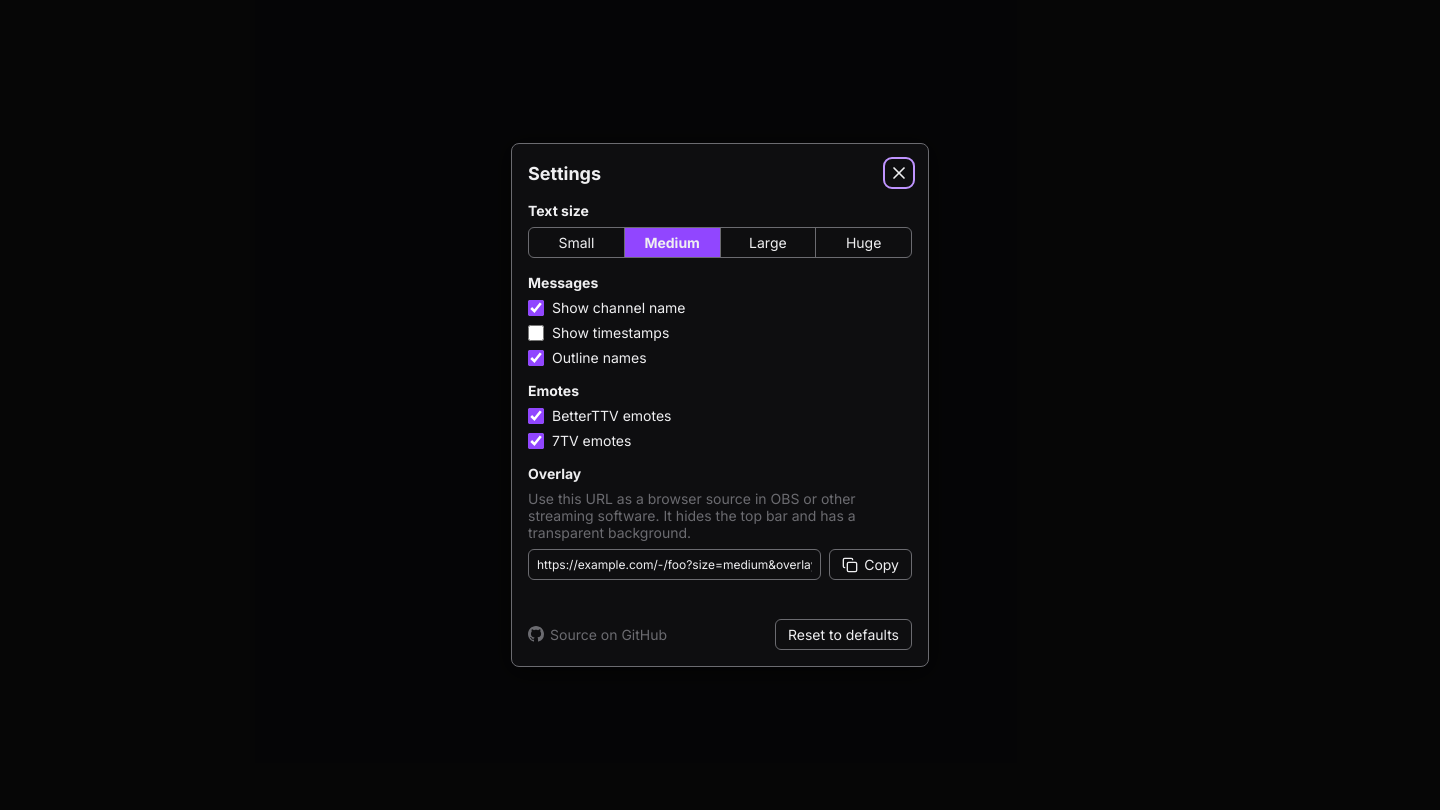
Test: SettingsDialog › copies the overlay URL
Check: the field named "Overlay URL" holds "https://example.com/-/foo?size=medium&overlay=true", box [528, 549, 821, 580]
Click the button "Copy". click: click(871, 565)
box: [829, 549, 912, 580]
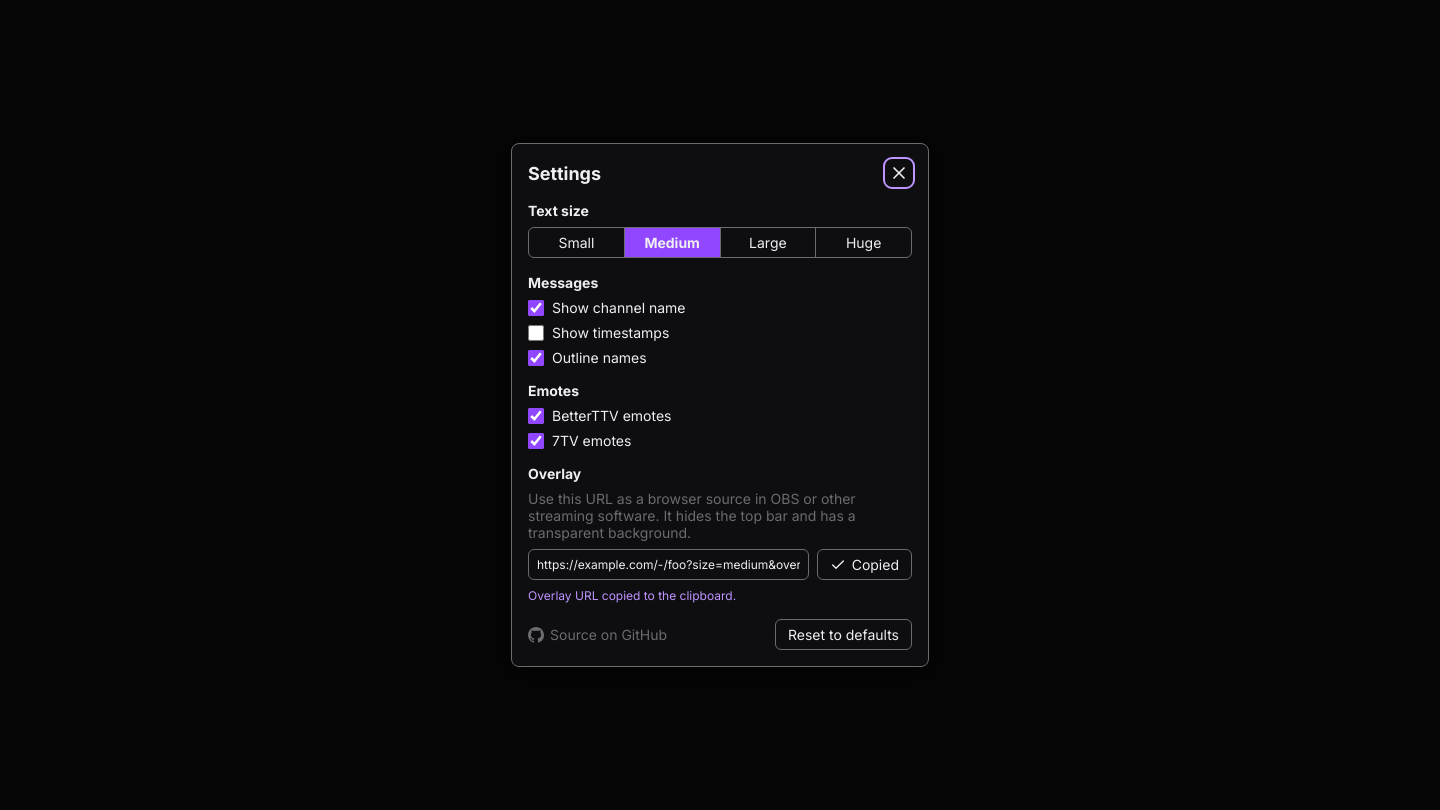
Check: the message shows "copied", box [528, 588, 736, 603]
